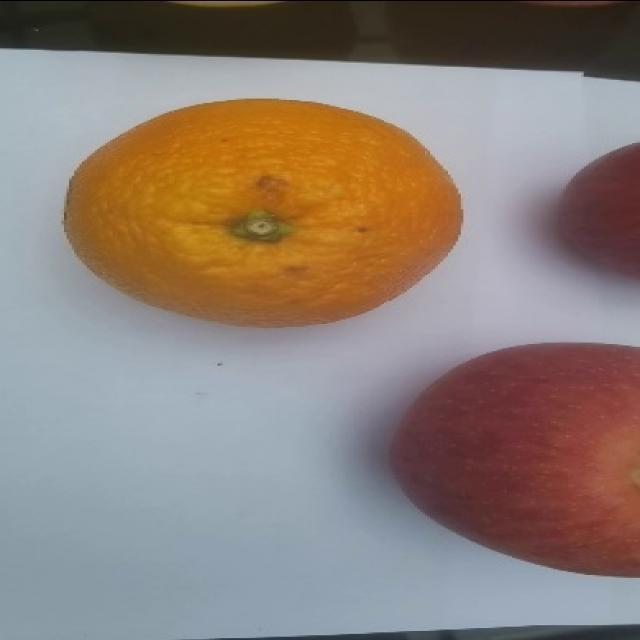Apple: (388, 340, 639, 578), (557, 140, 639, 279)
Orange: (62, 96, 464, 328)
